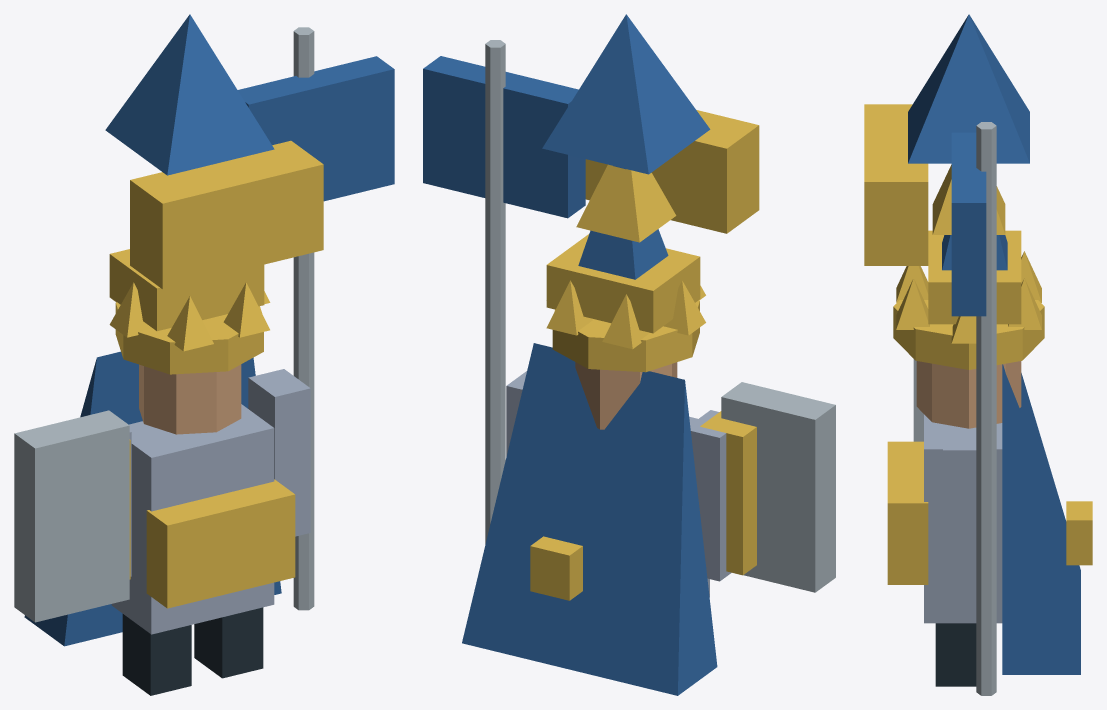
The model's file is hero.obj.
3 views of the same model, side by side, from view 1: azimuth 30°, elevation 25°; view 2: azimuth 150°, elevation 25°; view 3: azimuth 270°, elevation 25° (orthographic).
Parts seen in each view (by area): view 1: hero; view 2: hero; view 3: hero.
Boxes of the visible parts, <box> form: hero: <box>14,14,394,695</box>; hero: <box>423,14,835,695</box>; hero: <box>864,14,1092,695</box>.
Size of the model in its own units: 1.48 by 2.45 by 0.785.
